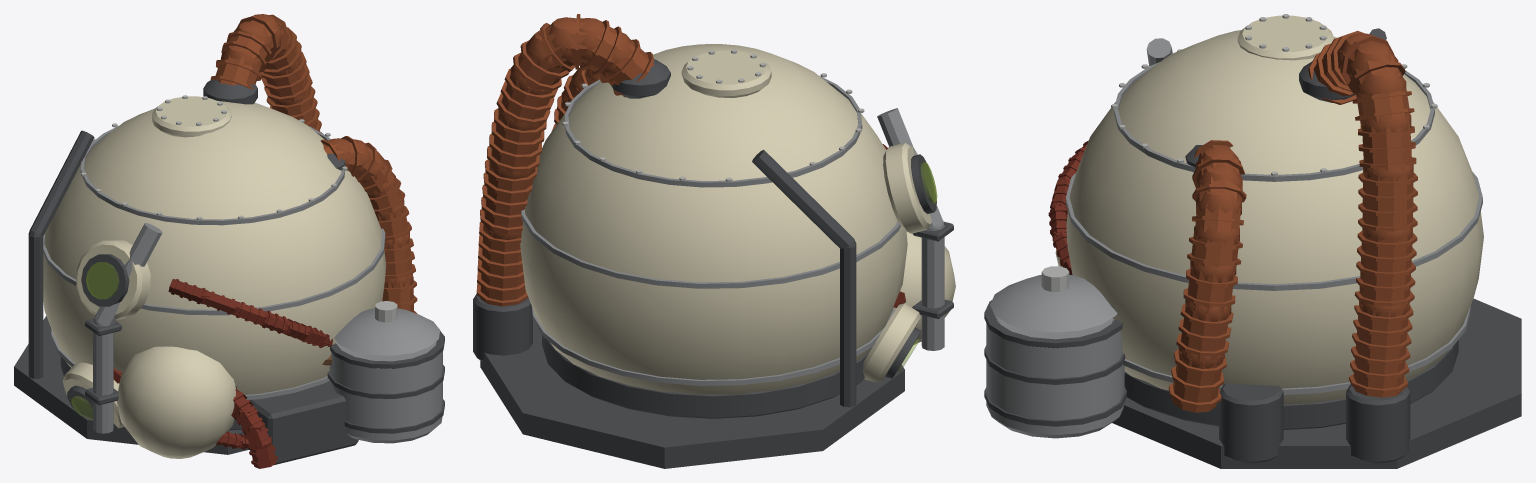
The model's file is nuclear-reactor.glb.
The picture shows the model from 3 angles, left to right: view 1: azimuth 30°, elevation 25°; view 2: azimuth 150°, elevation 25°; view 3: azimuth 270°, elevation 25°; orthographic projection. The views are drawn at different scales.
Parts seen in each view (by area): view 1: body, anim_glow_core; view 2: body, anim_glow_core; view 3: body.
Boxes of the visible parts, box(x1,y1,x2,y2) form: body: box(14, 14, 444, 468); anim_glow_core: box(71, 262, 118, 420); body: box(473, 14, 955, 468); anim_glow_core: box(897, 162, 937, 373); body: box(984, 14, 1521, 468).
Size of the model in its own units: 4.07 by 3.72 by 4.67.
